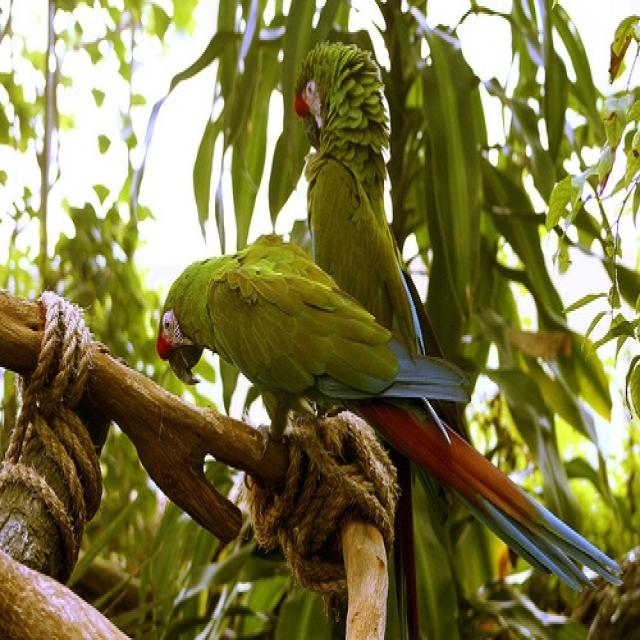bird: (145, 229, 622, 618), (290, 34, 478, 634)
